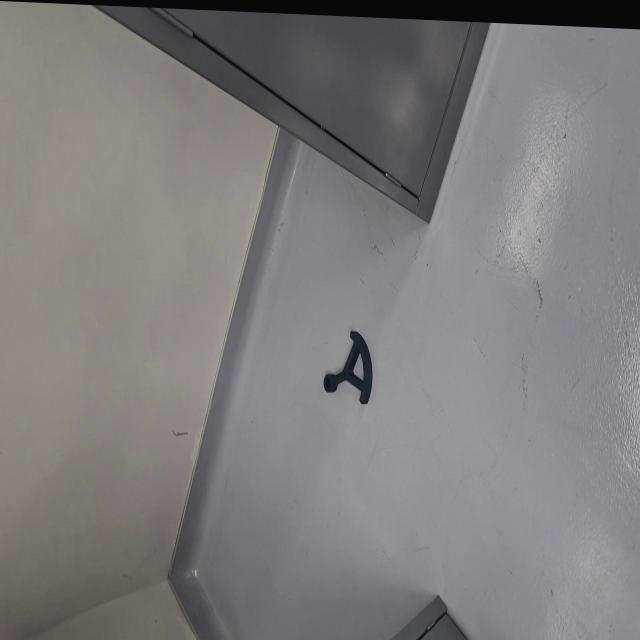haptic: (323, 327, 373, 406)
